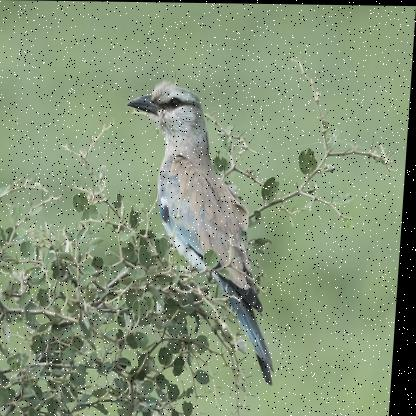Burung: (112, 74, 295, 385)
